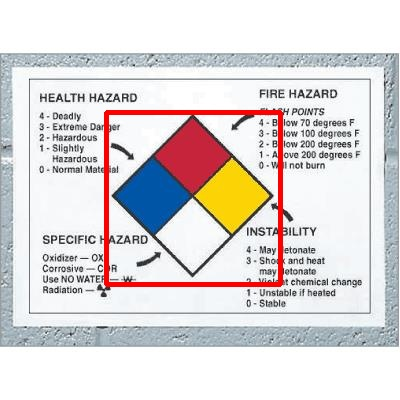nfpa: (106, 112, 280, 284)
